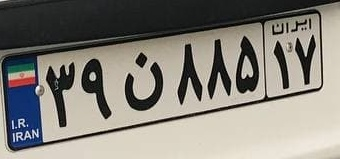character: (117, 49, 169, 115), (41, 57, 81, 133), (79, 55, 115, 122), (170, 40, 205, 106), (205, 33, 234, 101), (233, 32, 260, 95), (293, 32, 317, 87), (270, 38, 293, 91)
